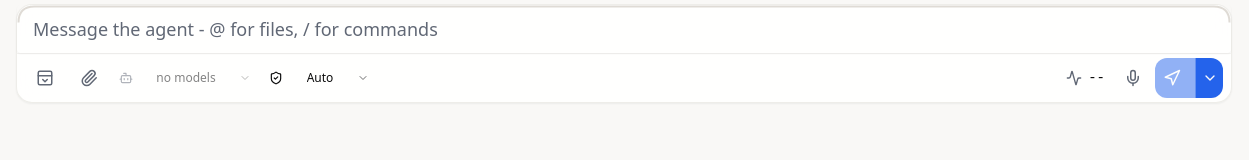
Scenario: Composer › does not run /delete with trailing arguments
In the text box with test id "composer-input": [624, 29] box [17, 5, 1231, 53], type "/delete now"
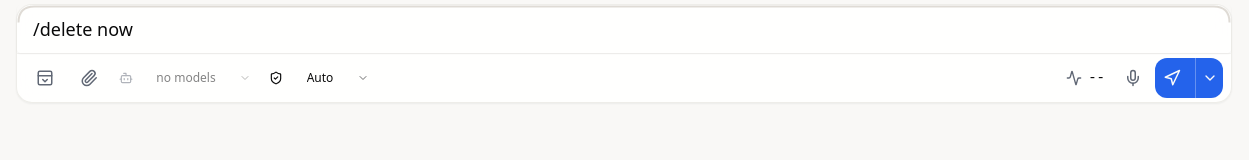
Press Enter in the text box with test id "composer-input", box [17, 5, 1231, 53]
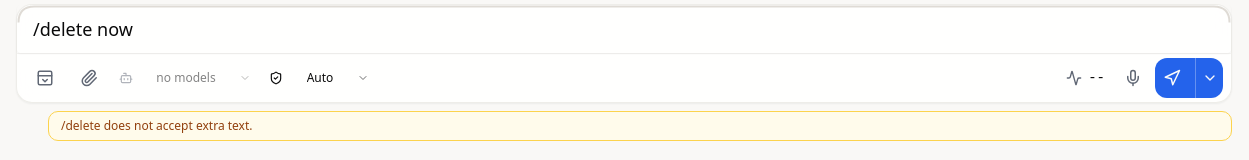
Now the text with test id "composer-toast" reads "/delete does not accept extra text.", box [61, 117, 252, 134]
